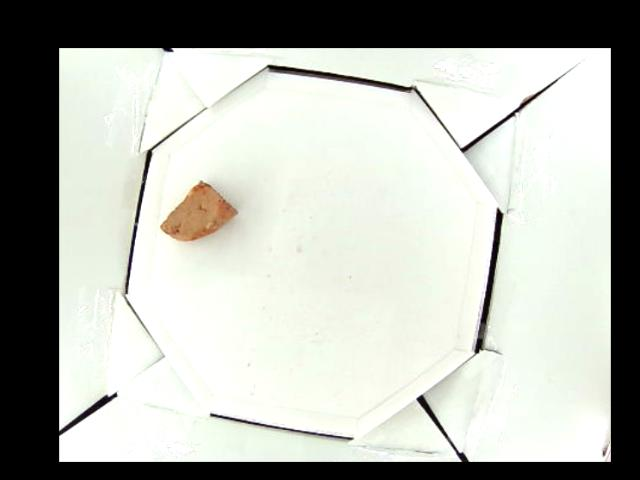Brisk: (159, 181, 238, 241)
